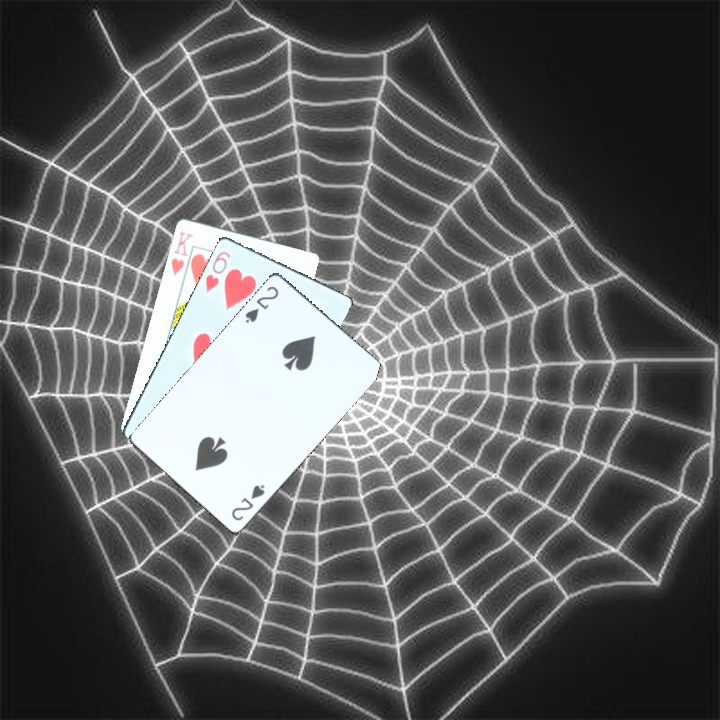2s: (241, 282, 281, 325), (227, 480, 267, 523)
6h: (201, 247, 233, 294)
Kh: (167, 228, 200, 281)
